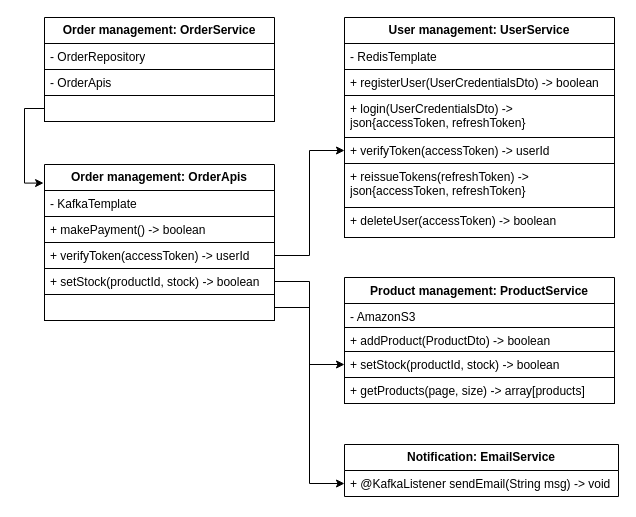
Image size: 636x517. Some labels were removed from this diagram. Here are the shapes that lost their labels. From the top down, the centre of each, then its label:
At point 159,108: "+ makeOrder(OrderDto) -> boolean".
At point 159,307: "+ sendEmail(String msg) -> boolean".
